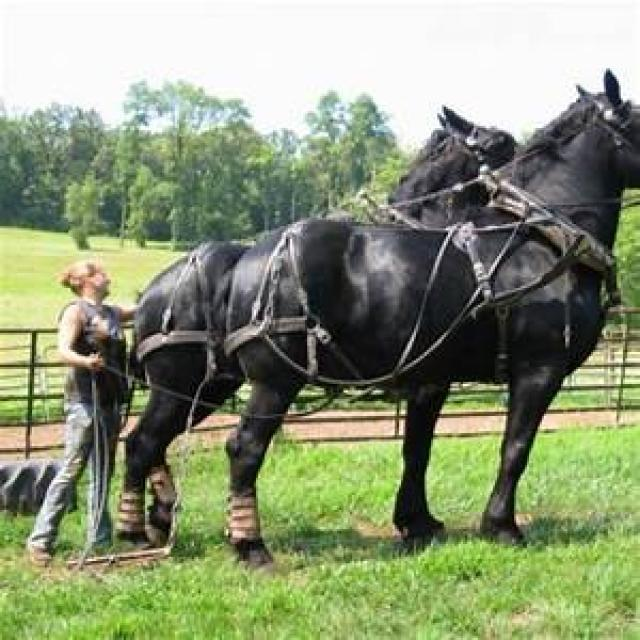horse: (224, 81, 640, 542)
